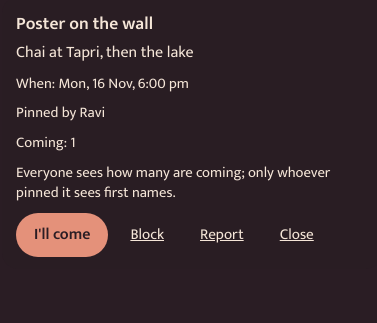
Scenario: PosterCard: Main aaunga/aaungi › a verified member says they are coming, sees the count go up, and can take it back
Click the button "I'll come" at x=62, y=235, box [16, 213, 108, 257]
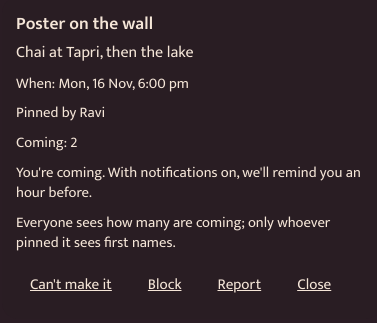
expect the text "Coming: 2" is shown: met, box [16, 130, 77, 155]
expect the text "You're coming." is shown: met, box [16, 160, 361, 205]
Click the button "Can't make it" at x=71, y=285, box [16, 263, 126, 307]
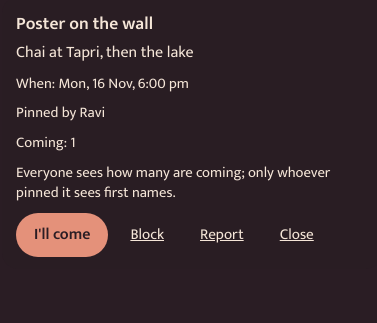
expect the button "I'll come" is shown: met, box [16, 213, 108, 257]
expect the text "Coming: 1" is shown: met, box [16, 130, 76, 155]
